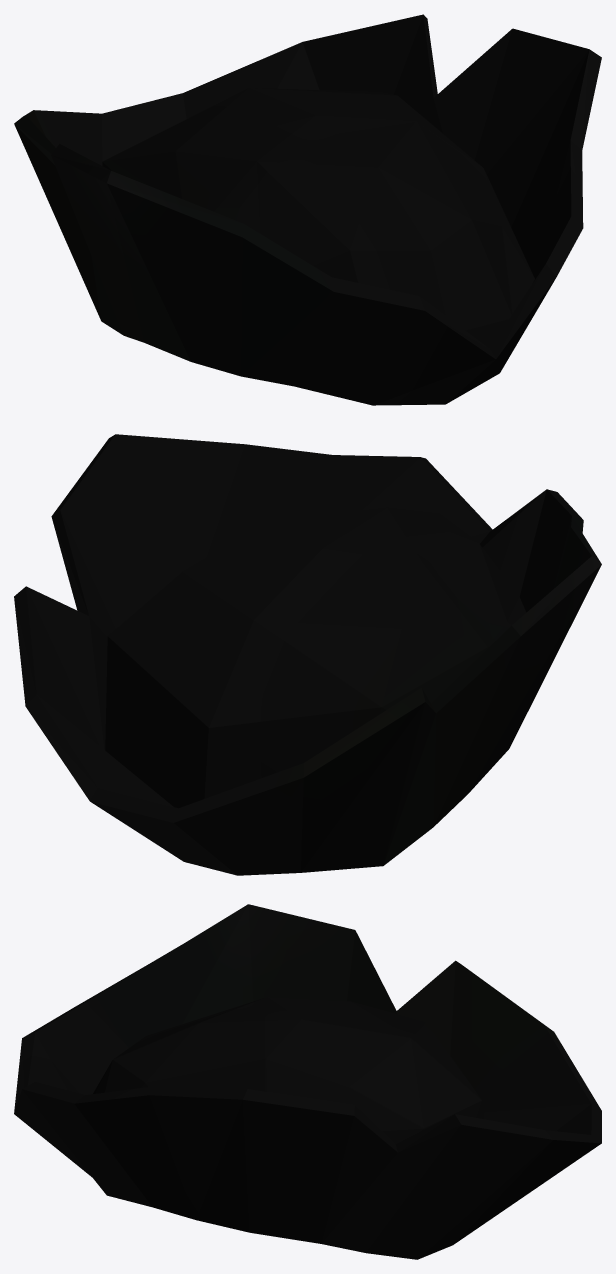
The model's file is ITHL_PIRATEHAT.glb.
3 views of the same model, one above another, from view 1: azimuth 30°, elevation 25°; view 2: azimuth 150°, elevation 25°; view 3: azimuth 270°, elevation 25° (orthographic). The views are drawn at different scales.
Visible parts, largest first — view 1: ITHL_PIRATEHAT; view 2: ITHL_PIRATEHAT; view 3: ITHL_PIRATEHAT.
Boxes of the visible parts, left/top/right/bottom form: ITHL_PIRATEHAT: left=14, top=14, right=601, bottom=405; ITHL_PIRATEHAT: left=14, top=434, right=601, bottom=875; ITHL_PIRATEHAT: left=14, top=904, right=601, bottom=1259.
Bounding box in the file's own units: 0.2872 × 0.1538 × 0.3647.
Materials: 1 (1 with a texture image).
